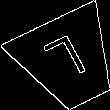L_SE: (42, 32, 95, 91)
